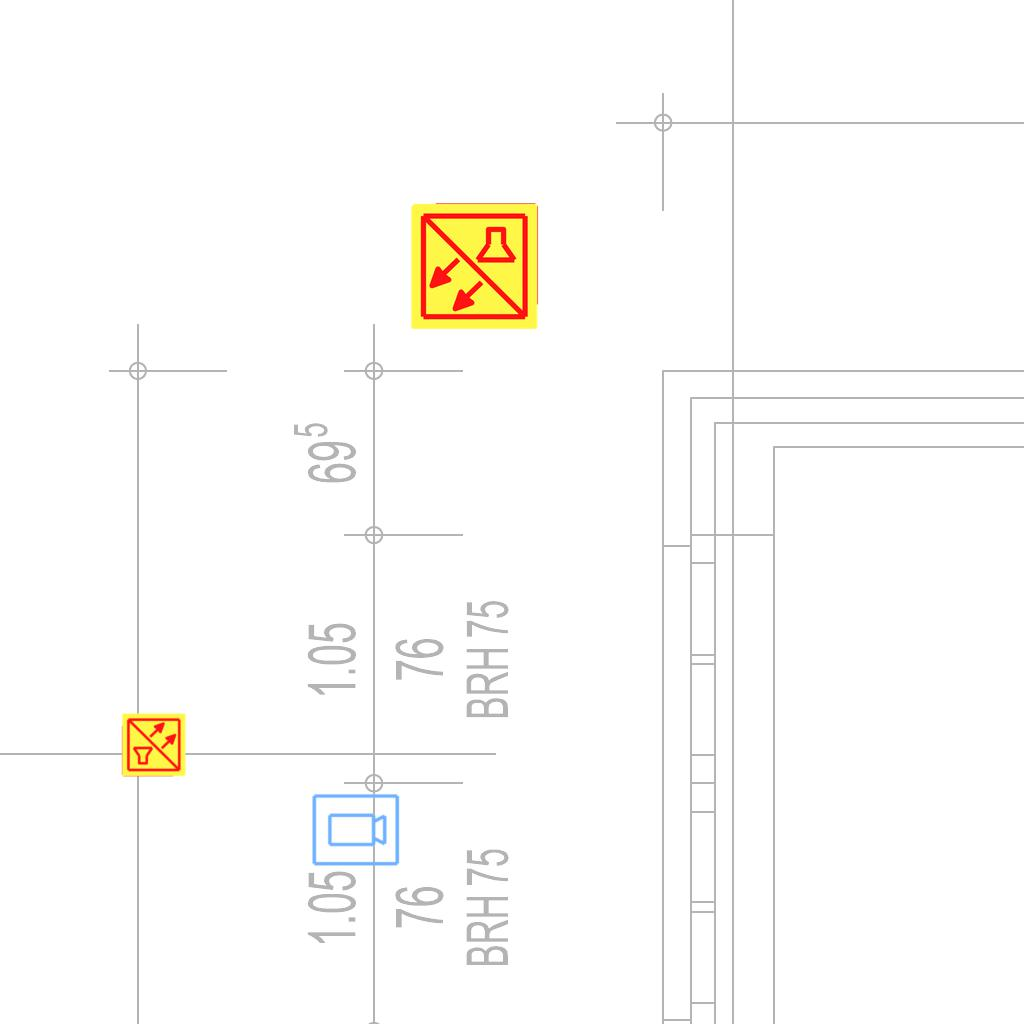KFO_Kamera_mit_Festobjektiv: (310, 792, 401, 869)
OKW_Multisensormelder_(Kombination_optischer_Rauch-Kahlenmonoxid_Waerme-Melder): (408, 200, 540, 332), (121, 712, 187, 778)
